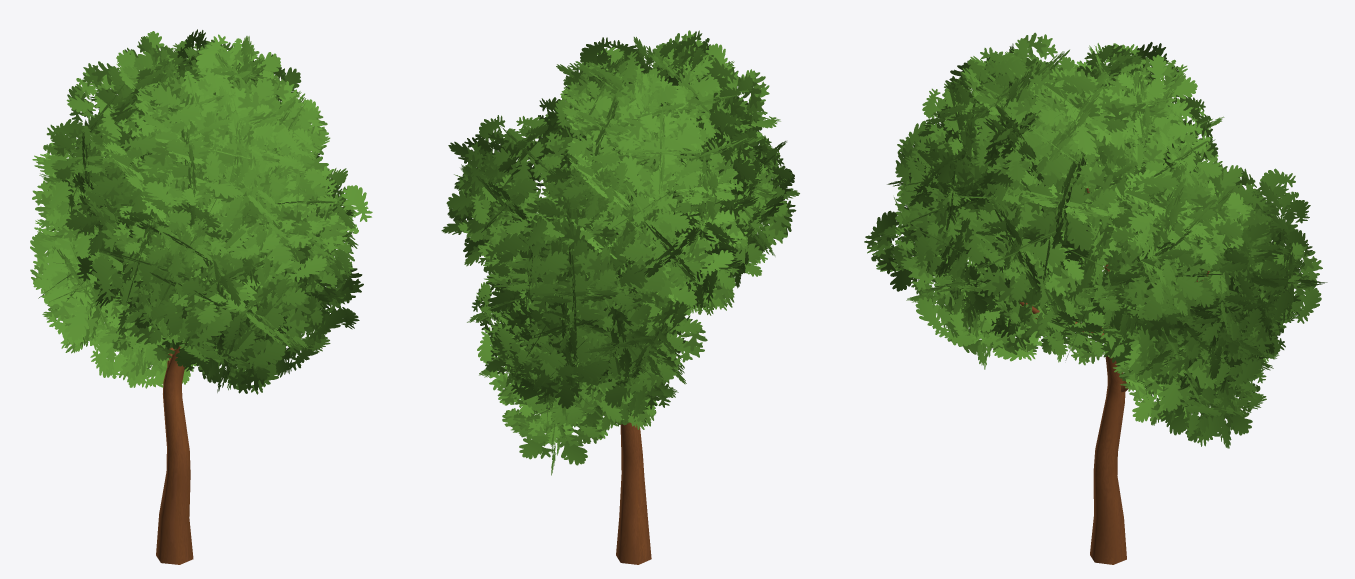
File: oak_03.glb
3 views of the same model, side by side, from view 1: azimuth 30°, elevation 25°; view 2: azimuth 150°, elevation 25°; view 3: azimuth 270°, elevation 25° (orthographic). The views are drawn at different scales.
Visible parts, largest first — view 1: oak_03; view 2: oak_03; view 3: oak_03.
Boxes of the visible parts, box(x1,y1,x2,y2) form: oak_03: box(30, 29, 372, 564); oak_03: box(441, 30, 799, 564); oak_03: box(864, 32, 1327, 564).
Size of the model in its own units: 12.04 by 19.41 by 16.27.
Materials: 2 (2 with a texture image).
